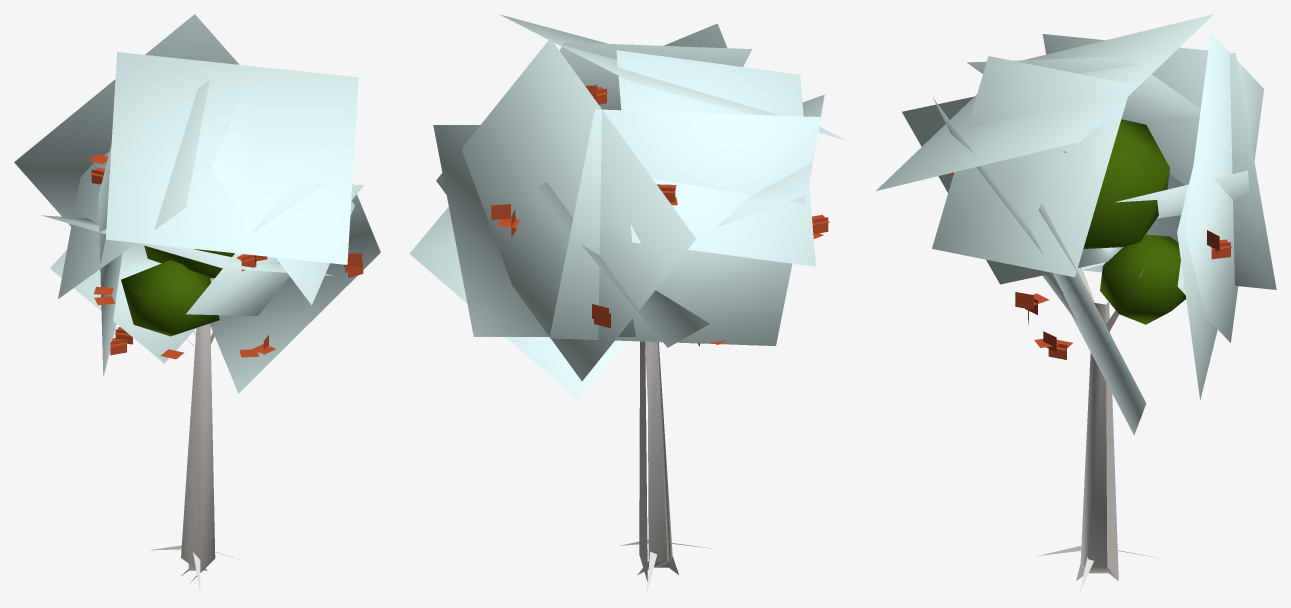
Rendered from foliage.rowan.gltf.
3 views of the same model, side by side, from view 1: azimuth 30°, elevation 25°; view 2: azimuth 150°, elevation 25°; view 3: azimuth 270°, elevation 25° (orthographic). The views are drawn at different scales.
Visible parts, largest first — view 1: lod, lod.001, lod.003, lod.002; view 2: lod, lod.001, lod.002; view 3: lod, lod.003, lod.001, lod.002.
Part boxes in pixels (x1,y1,x2,y2): lod: [14, 14, 380, 393]; lod.001: [138, 244, 240, 592]; lod.003: [121, 245, 234, 336]; lod.002: [88, 154, 363, 359]; lod: [409, 14, 845, 399]; lod.001: [619, 341, 711, 592]; lod.002: [491, 85, 829, 346]; lod: [875, 14, 1276, 435]; lod.003: [1083, 119, 1186, 324]; lod.001: [1038, 265, 1159, 593]; lod.002: [950, 151, 1231, 359].
Size of the model in its own units: 4.7 by 6.58 by 4.16.
